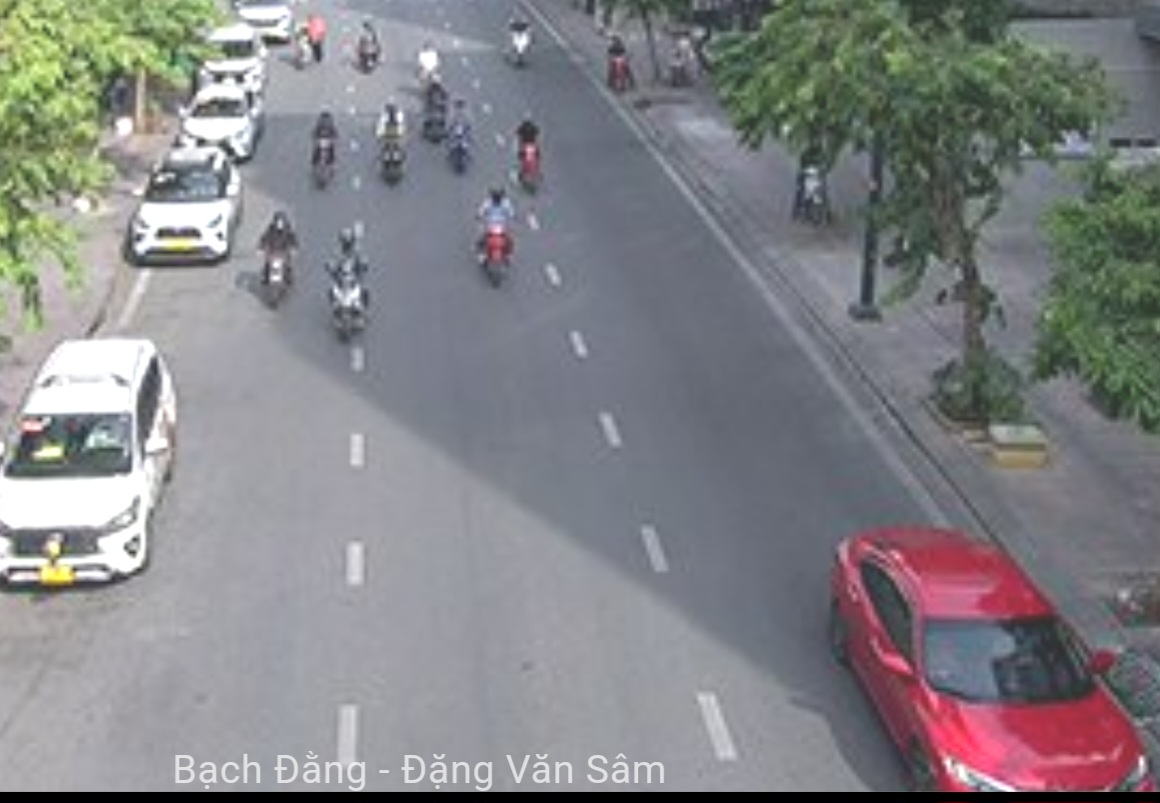car: (819, 524, 1149, 803), (1, 333, 172, 596), (132, 138, 242, 267), (176, 78, 277, 158)
